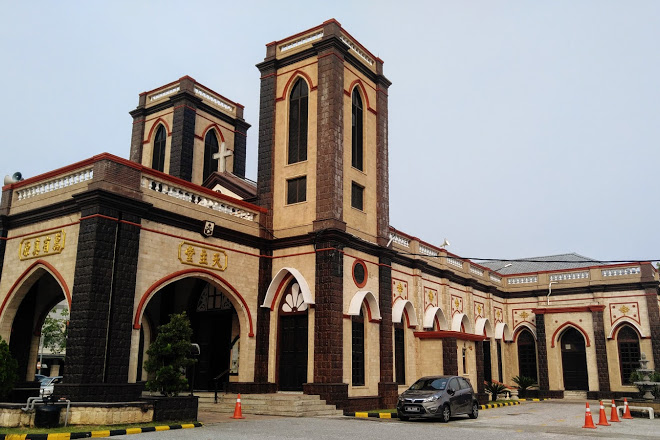Church: (6, 24, 389, 384)
